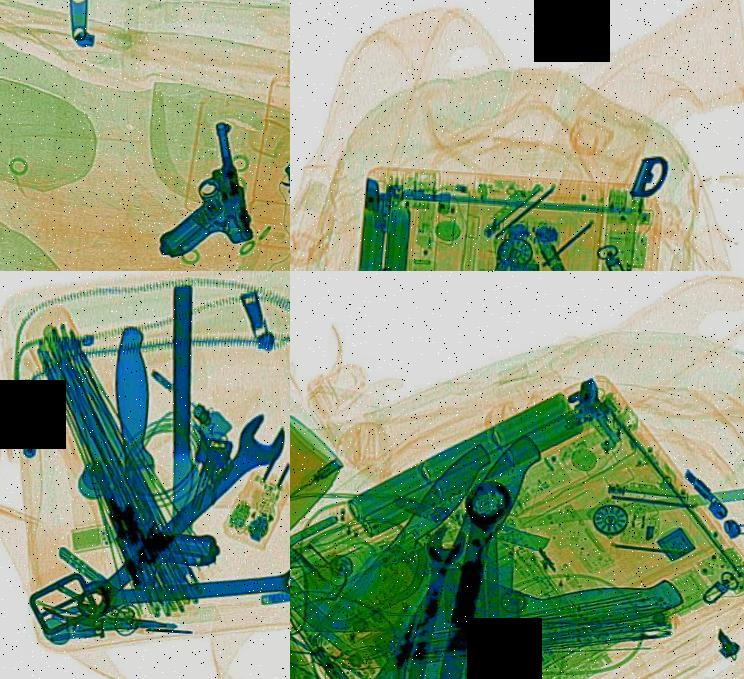Gun: (122, 114, 265, 262), (223, 107, 290, 260), (98, 492, 220, 568)
Knife: (290, 496, 691, 670), (345, 419, 550, 679), (316, 428, 502, 634), (92, 323, 178, 585), (152, 282, 211, 576)
Wrench: (59, 395, 290, 641), (405, 472, 511, 679), (77, 543, 290, 634), (380, 520, 462, 679)
